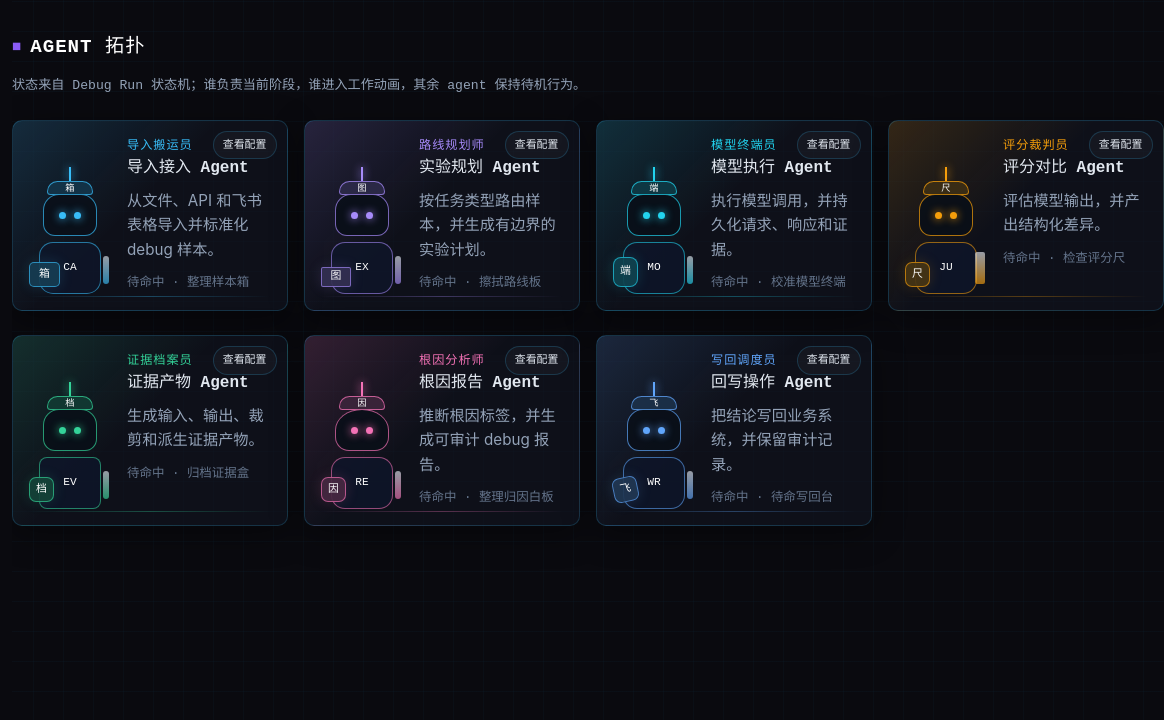
Test: AgentTopologyPanel › opens the configuration drawer for 证据产物 Agent
Step 1. Click the button "查看配置" next to "证据档案员" → (245, 360), box [213,346,277,374]
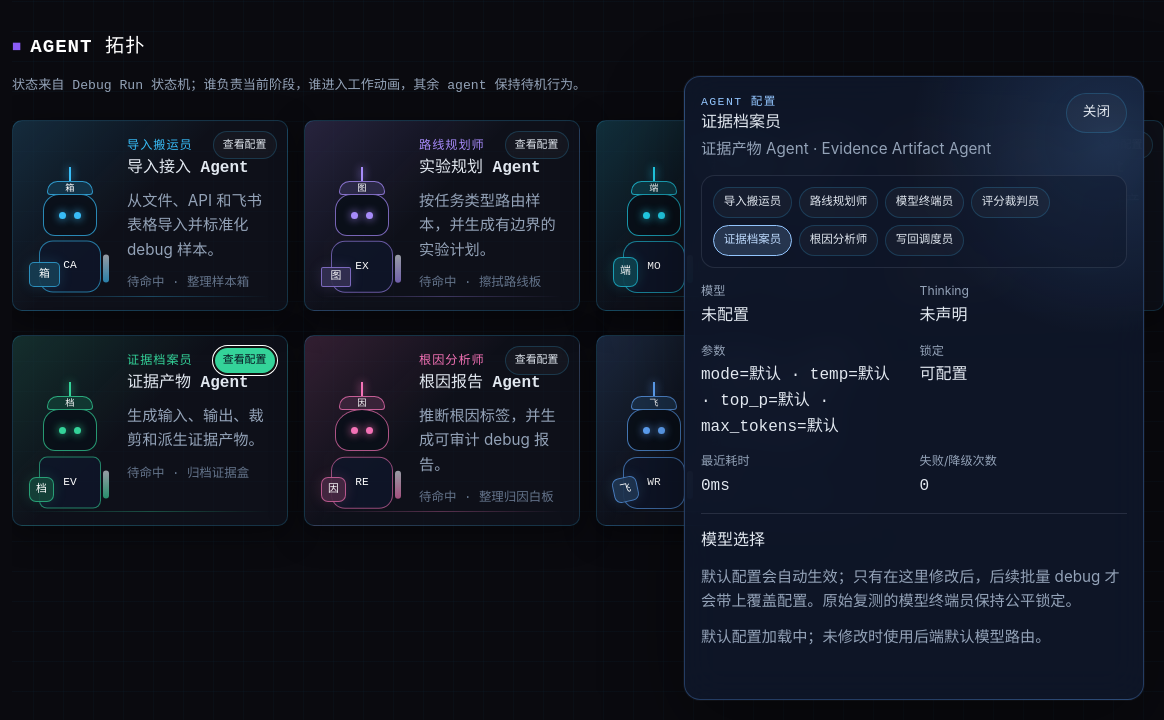
Expected: the element named "Agent 配置抽屉" is shown, [684,76,1144,700]
Expected: the heading "证据档案员" is shown, [701,114,781,132]
Expected: the text "证据产物 Agent · Evidence Artifact Agent" is shown, [701,137,991,161]
